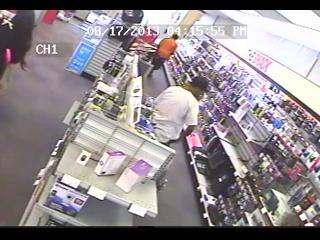Normal: (148, 76, 210, 146), (1, 11, 36, 84), (139, 34, 179, 78)
